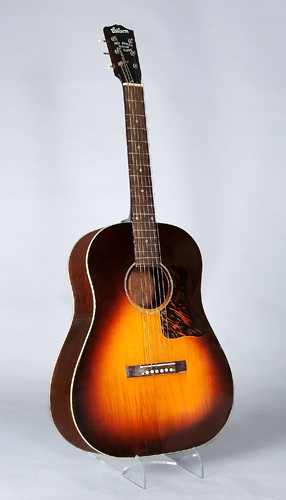guitar: (48, 25, 234, 458)
